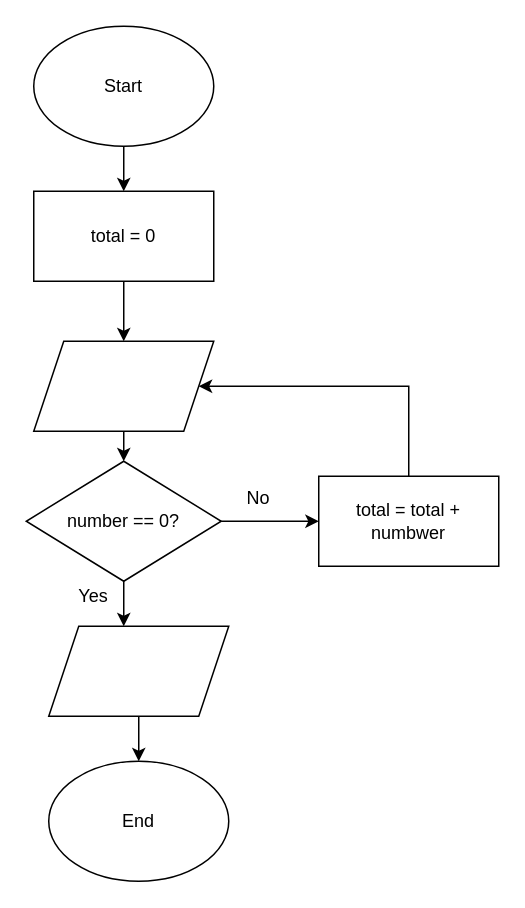
Image size: 525x908. Some labels were removed from this diagram. Here are the shapes that lost their labels. From the top down, the centre of each, then its label:
pixel 123 385: Input number
pixel 138 670: Display "Total = " + total
